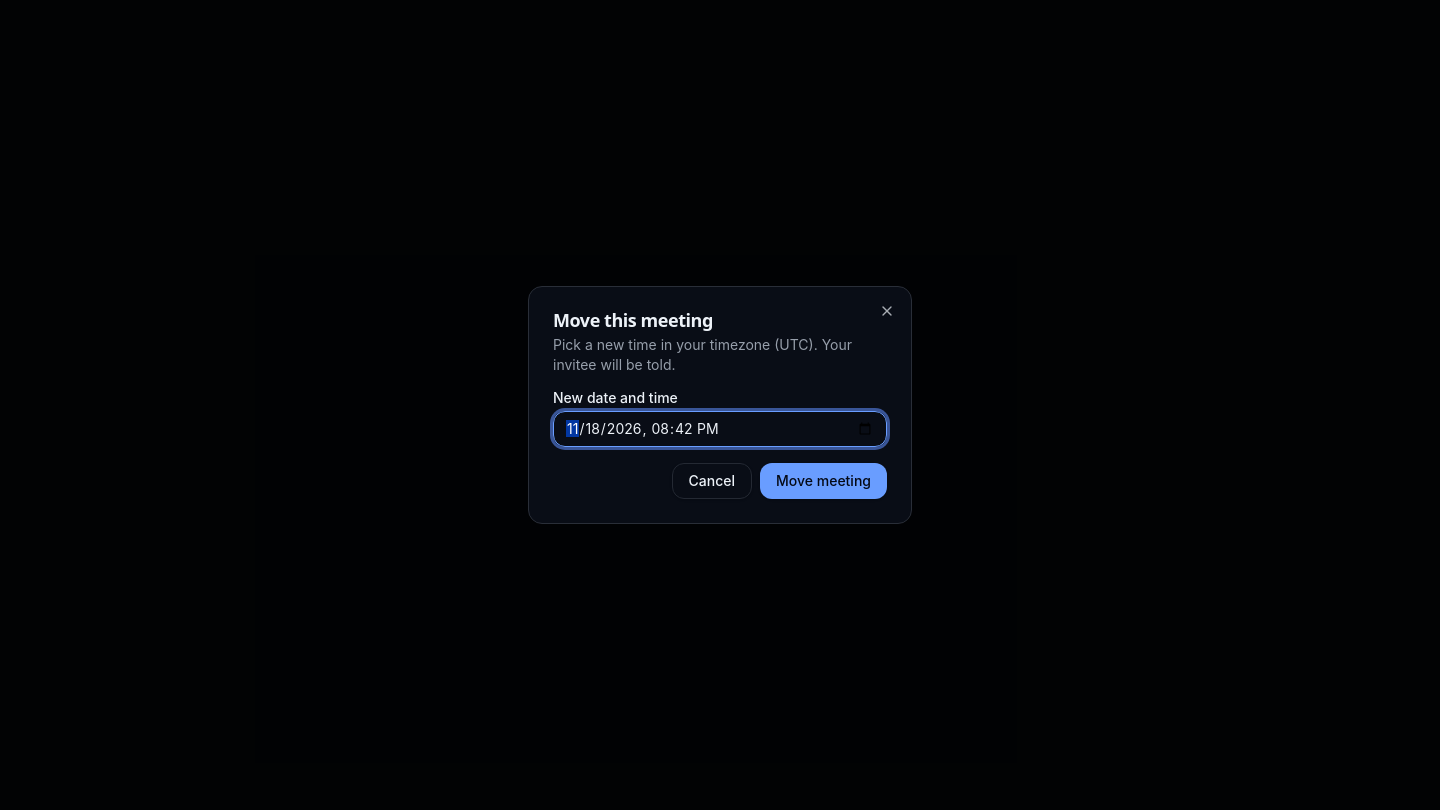
Test case: rescheduling › shows the server's reason (for example someone already joined) and stays open
This screenshot has width=1440, height=810.
Click the button "Move meeting" at (824, 481), box [760,463,887,499]
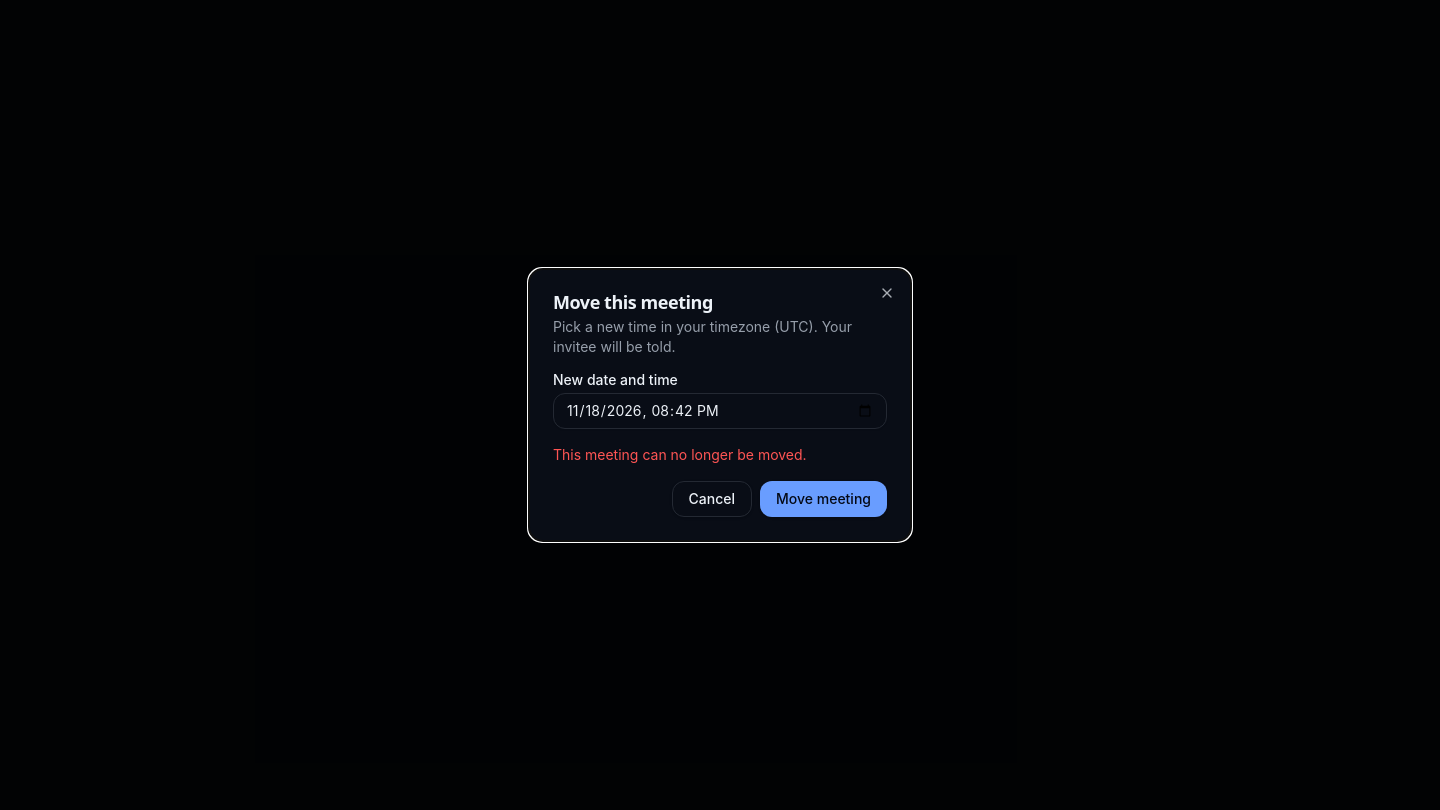
Check: the message shows "no longer be moved", box [553,446,807,463]
